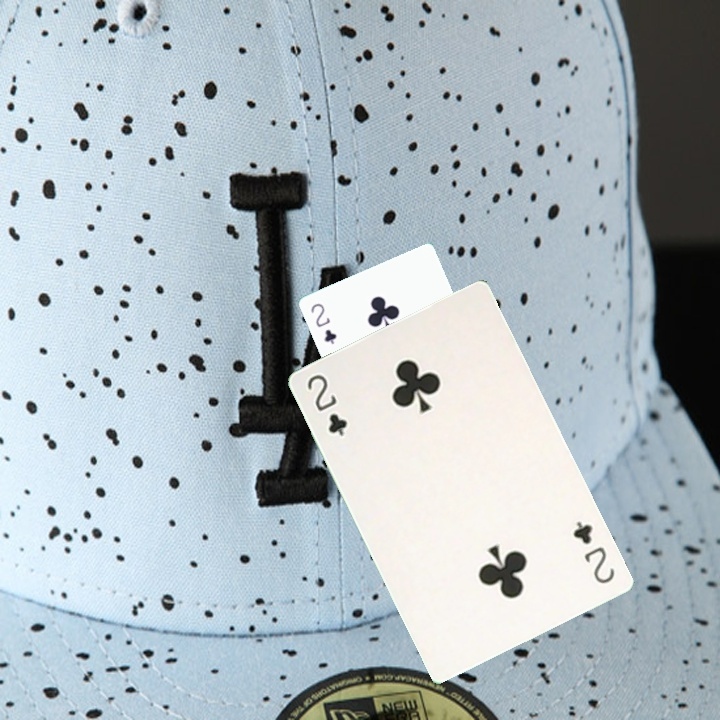2c: (569, 517, 618, 587), (303, 370, 350, 439), (307, 299, 339, 347)
